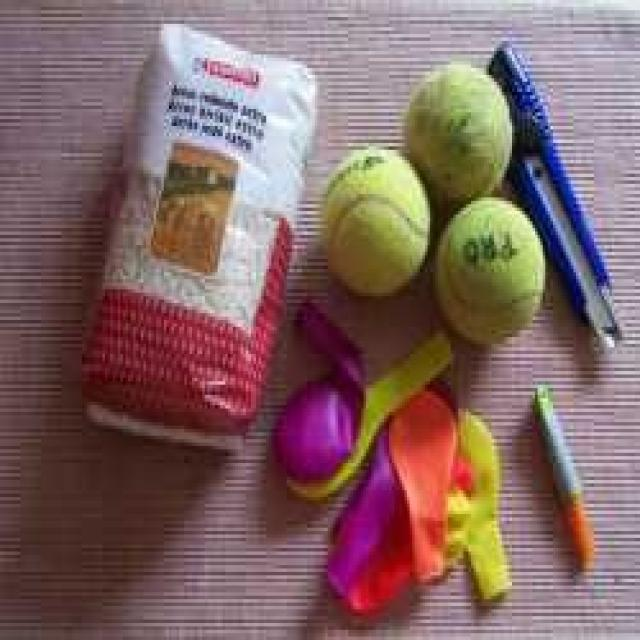Tennis_Ball: (434, 201, 549, 345), (402, 59, 513, 204), (331, 152, 424, 298)
